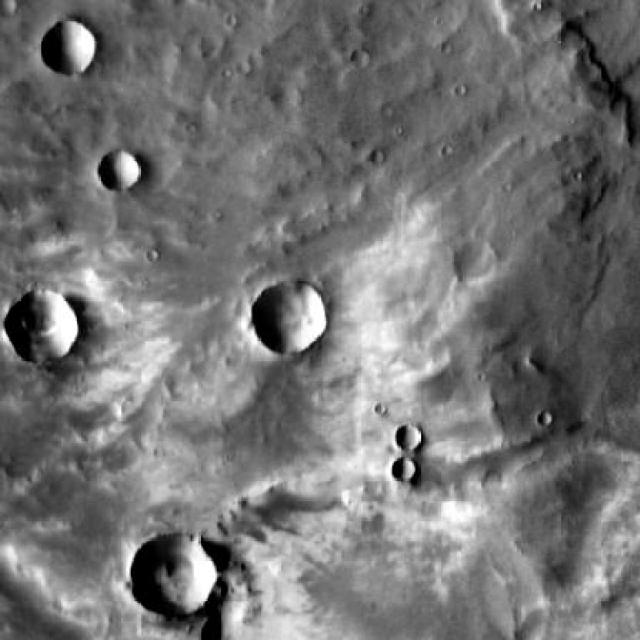crater: (134, 534, 222, 622), (248, 282, 322, 356), (8, 290, 82, 364), (44, 21, 98, 76), (464, 241, 508, 284), (97, 156, 137, 196), (394, 423, 420, 449), (395, 455, 419, 479), (6, 0, 28, 17), (350, 46, 368, 64)
